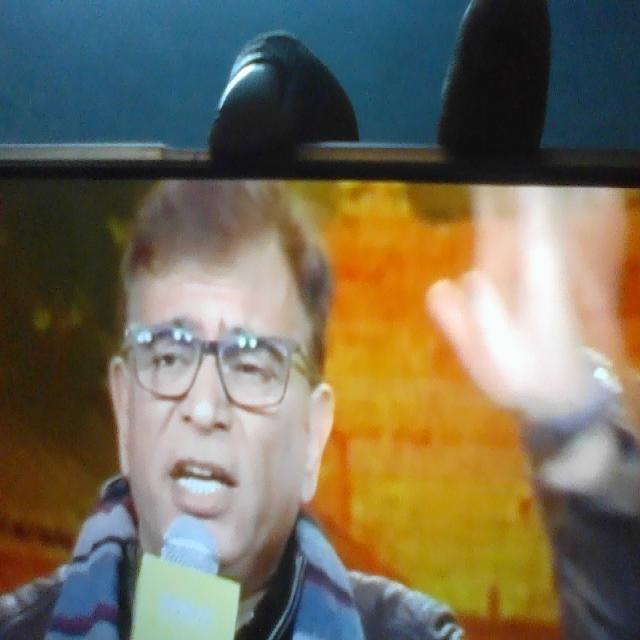fake: (99, 137, 337, 588)
